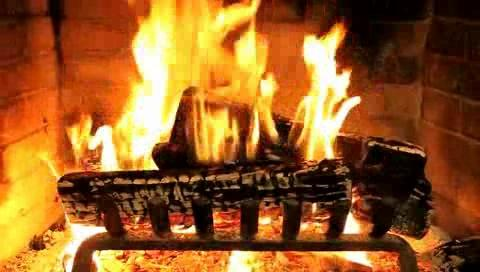fire: (101, 3, 351, 178)
